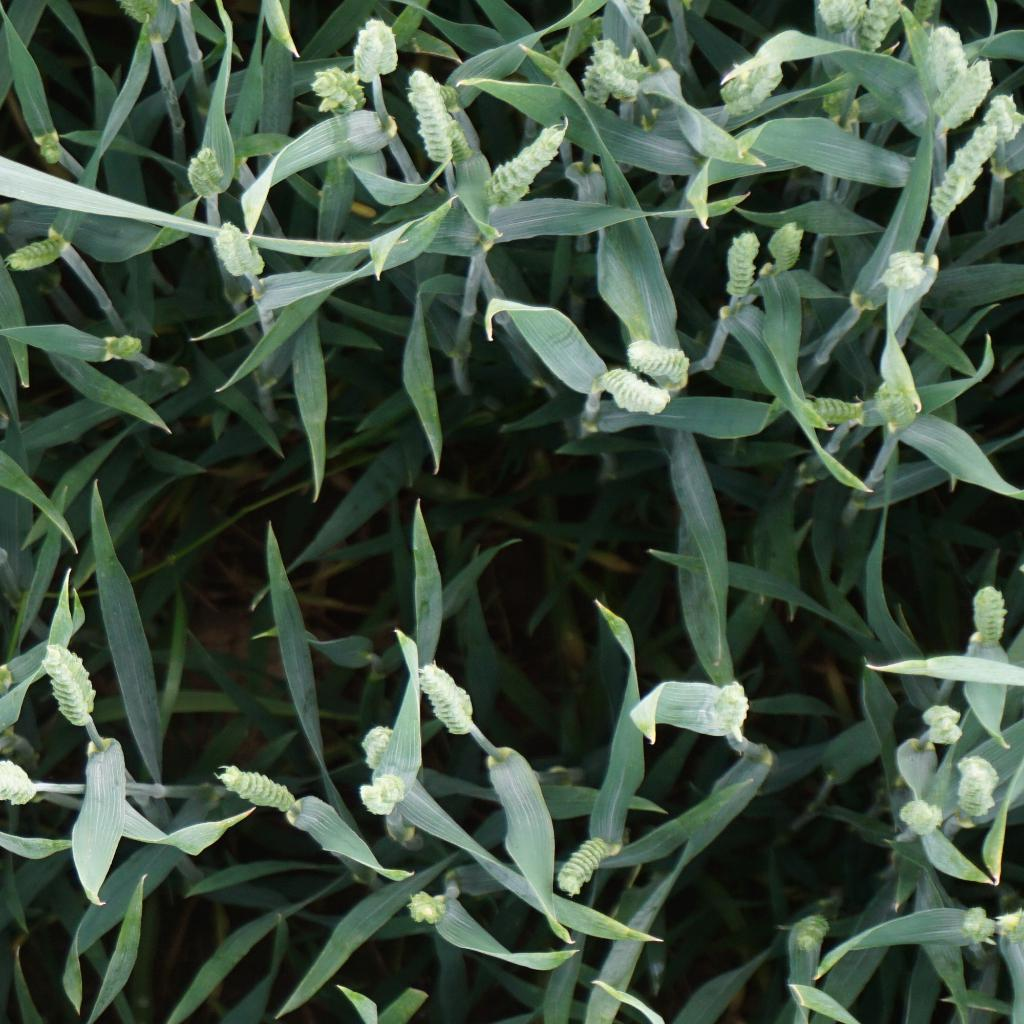0-0: (477, 116, 573, 207), (395, 66, 469, 172), (928, 125, 995, 225), (412, 658, 481, 742), (43, 642, 103, 732), (211, 759, 301, 819), (199, 216, 276, 282), (930, 49, 990, 132), (533, 11, 611, 73), (595, 360, 673, 422), (712, 49, 780, 118), (912, 23, 972, 98), (551, 833, 620, 897), (304, 56, 371, 121), (948, 748, 1002, 827), (349, 16, 403, 83), (621, 335, 694, 384), (570, 39, 615, 113), (723, 225, 762, 308), (963, 582, 1009, 652), (587, 48, 644, 103), (183, 141, 236, 200), (347, 773, 414, 819), (915, 699, 971, 752), (429, 112, 478, 167), (847, 0, 905, 46), (4, 233, 69, 273), (357, 716, 408, 766), (798, 394, 879, 425), (769, 212, 805, 279), (717, 679, 757, 739), (872, 378, 915, 433), (809, 72, 864, 112), (807, 0, 865, 37), (899, 796, 944, 840), (405, 887, 452, 928), (986, 91, 1022, 144), (0, 760, 41, 806), (886, 246, 922, 291), (108, 331, 154, 363), (958, 905, 993, 947), (416, 82, 467, 108), (28, 137, 68, 166), (900, 0, 940, 29)
